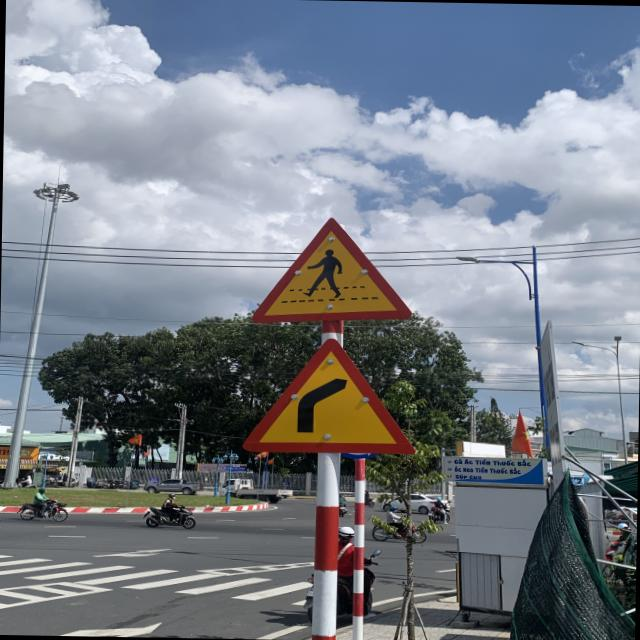Duong_Nguoi_Di_Bo_Cat_Ngang: (241, 336, 416, 455)
Duong_Nguoi_Di_Bo_Sang_Ngang: (248, 216, 414, 327)
